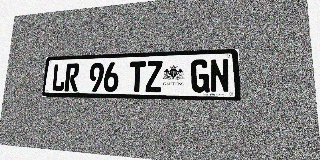6: (103, 62, 119, 92)
9: (88, 62, 104, 92)
G: (191, 59, 209, 93)
L: (51, 64, 66, 91)
N: (210, 58, 230, 93)
R: (64, 63, 80, 91)
T: (129, 61, 146, 92)
Z: (145, 61, 163, 92)
